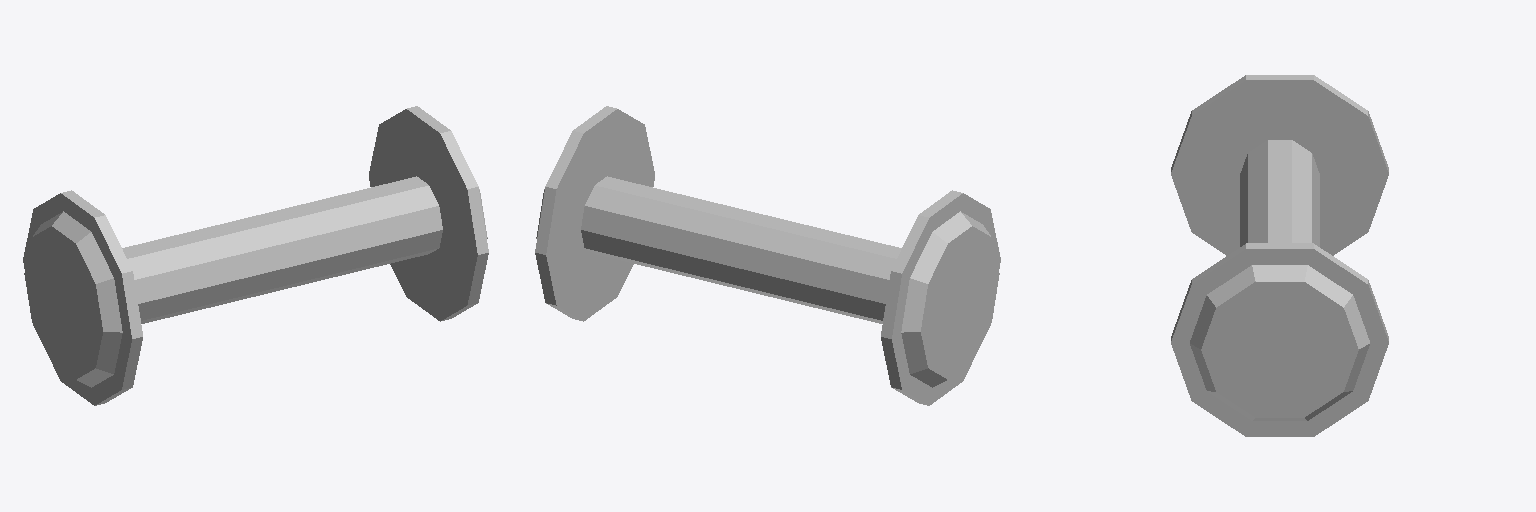
File: vehicle.obj
3 renders of one model, left to right at view 1: azimuth 30°, elevation 25°; view 2: azimuth 150°, elevation 25°; view 3: azimuth 270°, elevation 25°, orthographic.
Parts seen in each view (by area): view 1: Plane.000_Plane.002, Plane.002; view 2: Plane.000_Plane.002, Plane.002; view 3: Plane.002, Plane.000_Plane.002.
Part boxes in pixels (left/top/right/bottom): Plane.000_Plane.002: left=23, top=190, right=275, bottom=405; Plane.002: left=250, top=106, right=488, bottom=321; Plane.000_Plane.002: left=748, top=190, right=1000, bottom=405; Plane.002: left=535, top=106, right=773, bottom=321; Plane.002: left=1171, top=222, right=1388, bottom=436; Plane.000_Plane.002: left=1171, top=75, right=1388, bottom=255.
Bounding box in the file's own units: 1.87 × 0.8762 × 0.9212.